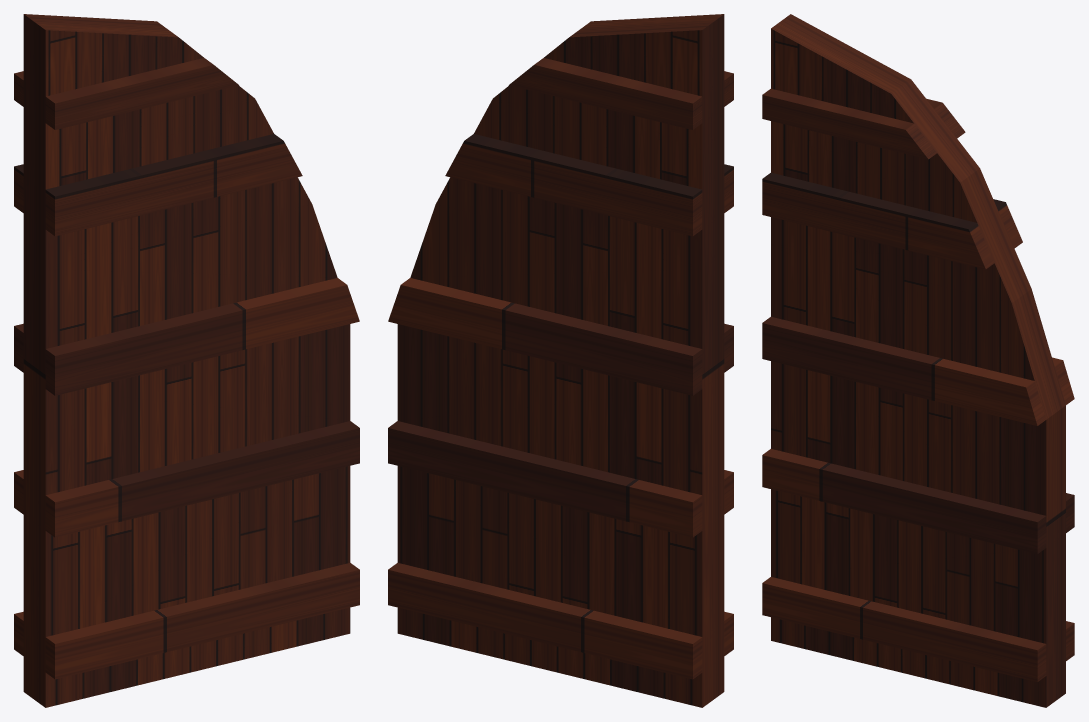
Rendered from gate.fbx.
The picture shows the model from 3 angles, left to right: view 1: azimuth 30°, elevation 25°; view 2: azimuth 150°, elevation 25°; view 3: azimuth 330°, elevation 25°; orthographic projection. The views are drawn at different scales.
Parts seen in each view (by area): view 1: Cube.001; view 2: Cube.001; view 3: Cube.001.
Part boxes in pixels (x1,y1,x2,y2): Cube.001: (14,14,359,707); Cube.001: (388,14,733,707); Cube.001: (762,14,1074,707).
Bounding box in the file's own units: 400 × 850 × 93.47.
Materials: 1 (1 with a texture image).
